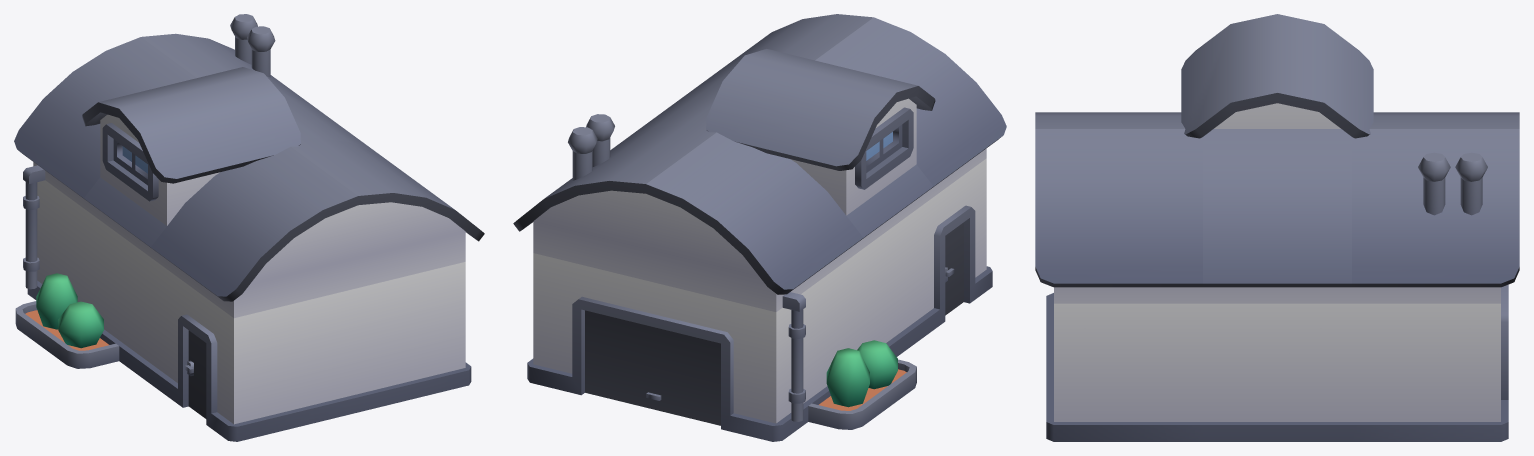
Rendered from building-j.fbx.
3 renders of one model, left to right at view 1: azimuth 30°, elevation 25°; view 2: azimuth 150°, elevation 25°; view 3: azimuth 270°, elevation 25°, orthographic. The views are drawn at different scales.
Visible parts, largest first — view 1: building-j; view 2: building-j; view 3: building-j.
Boxes of the visible parts, x1,y1,x2,y2 form: building-j: (14,14,484,441); building-j: (513,14,1006,441); building-j: (1035,14,1519,441).
Bounding box in the file's own units: 103 × 86.11 × 130.
1 material, 1 textured.
